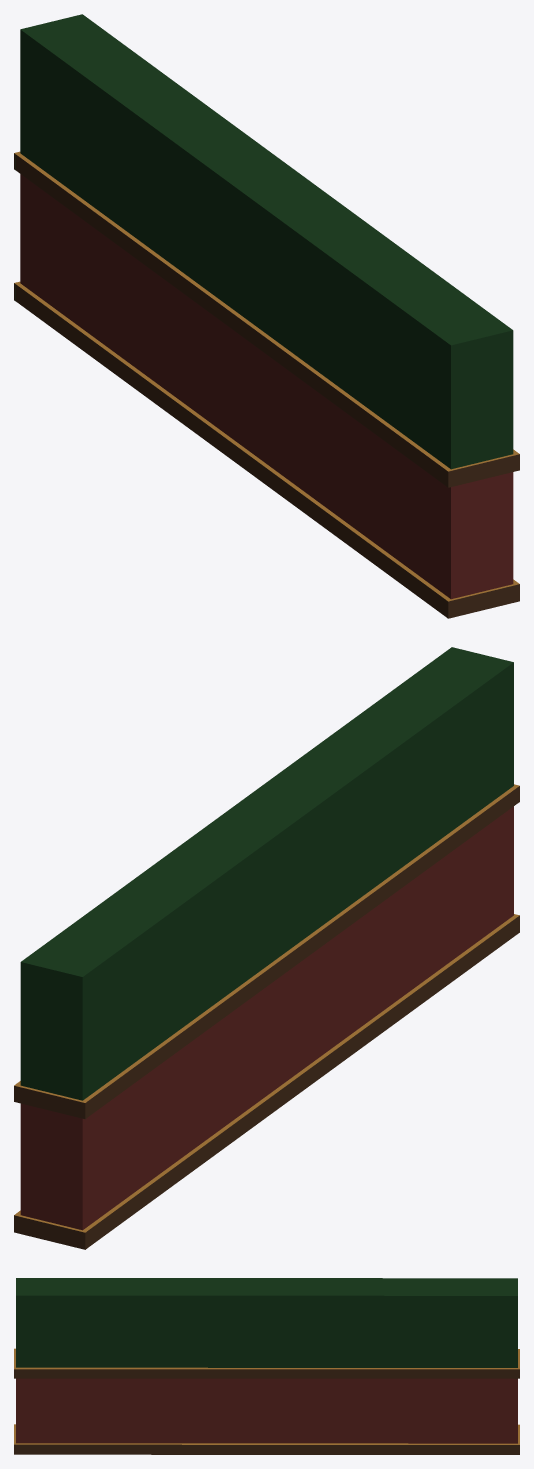
Rendered from stealth_wall.fbx.
The picture shows the model from 3 angles, top to bottom: view 1: azimuth 30°, elevation 25°; view 2: azimuth 150°, elevation 25°; view 3: azimuth 270°, elevation 25°; orthographic projection. The views are drawn at different scales.
Parts seen in each view (by area): view 1: Cube; view 2: Cube; view 3: Cube.
Boxes of the visible parts, x1,y1,x2,y2 form: Cube: (14, 14, 519, 618); Cube: (14, 647, 519, 1249); Cube: (14, 1278, 519, 1454).
Bounding box in the file's own units: 159 × 566 × 1647.
